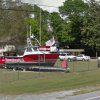Boat: (2, 38, 71, 73)
